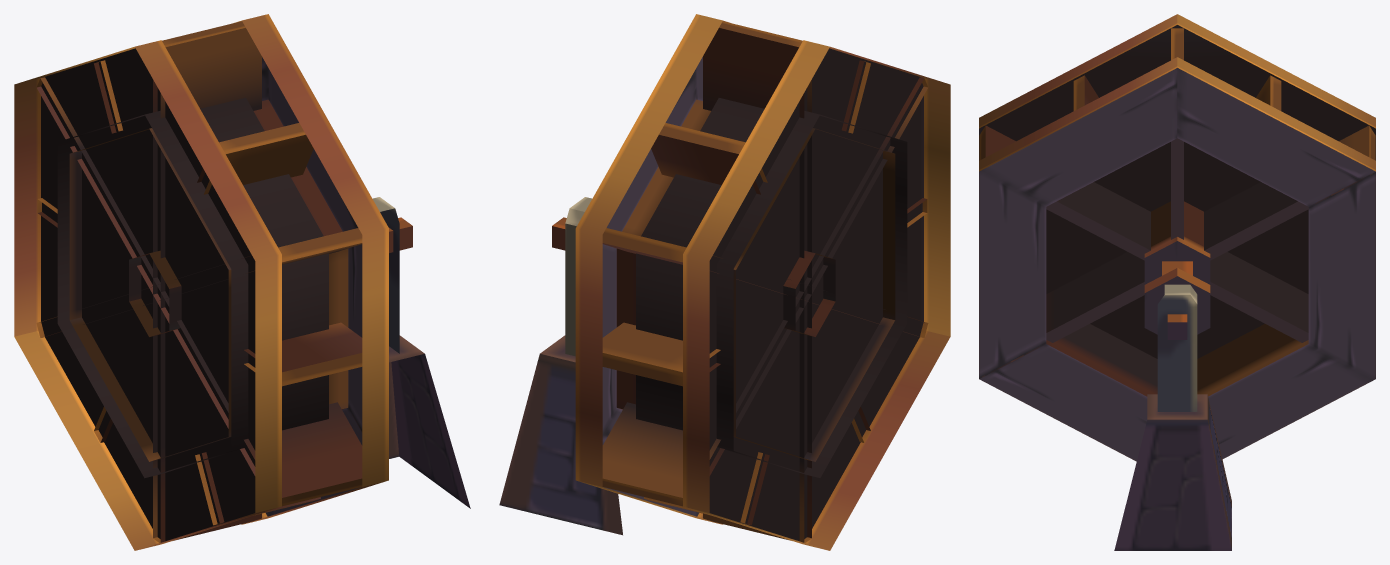
The model's file is WoodenWheel.FBX.
3 renders of one model, left to right at view 1: azimuth 30°, elevation 25°; view 2: azimuth 150°, elevation 25°; view 3: azimuth 270°, elevation 25°, orthographic. The views are drawn at different scales.
Visible parts, largest first — view 1: Wheel, Wheel_Base; view 2: Wheel, Wheel_Base; view 3: Wheel, Wheel_Base.
Part boxes in pixels (x1,y1,x2,y2): Wheel: [14, 14, 412, 550]; Wheel_Base: [373, 197, 470, 508]; Wheel: [552, 14, 950, 550]; Wheel_Base: [499, 197, 622, 535]; Wheel: [979, 14, 1375, 461]; Wheel_Base: [1114, 284, 1231, 550].
Bounding box in the file's own units: 60.71 × 98.79 × 85.12.
